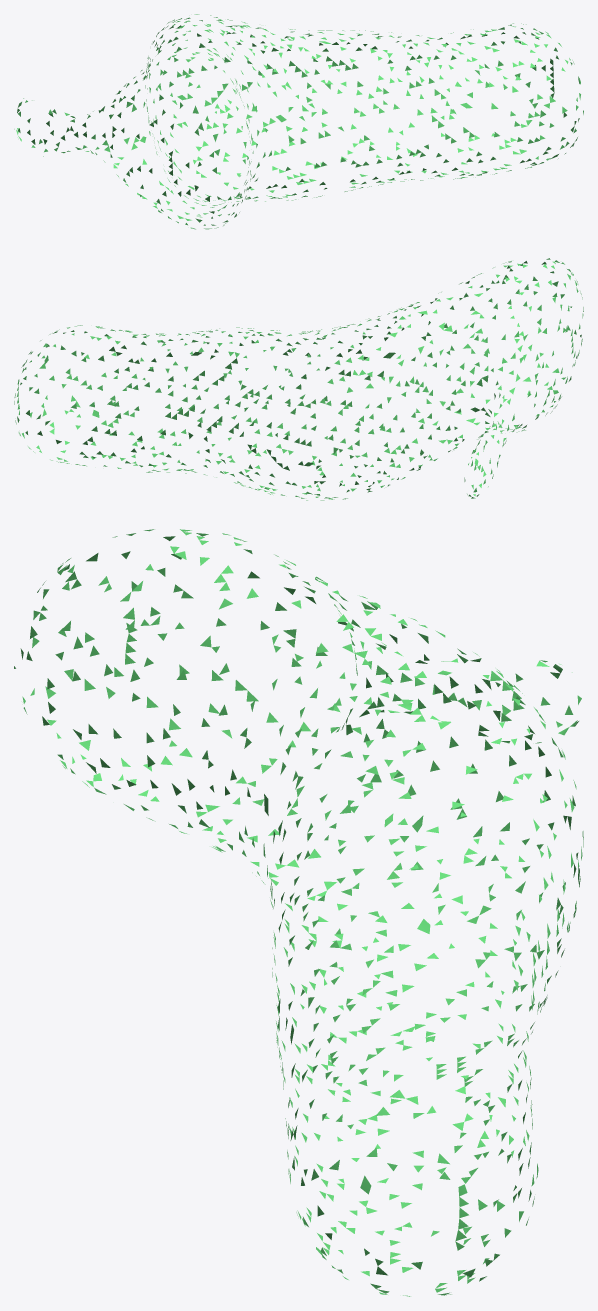
Rendered from morph_019.glb.
The picture shows the model from 3 angles, top to bottom: view 1: azimuth 30°, elevation 25°; view 2: azimuth 150°, elevation 25°; view 3: azimuth 270°, elevation 25°; orthographic projection. The views are drawn at different scales.
Bounding box in the file's own units: 59.28 × 27.56 × 33.63.
